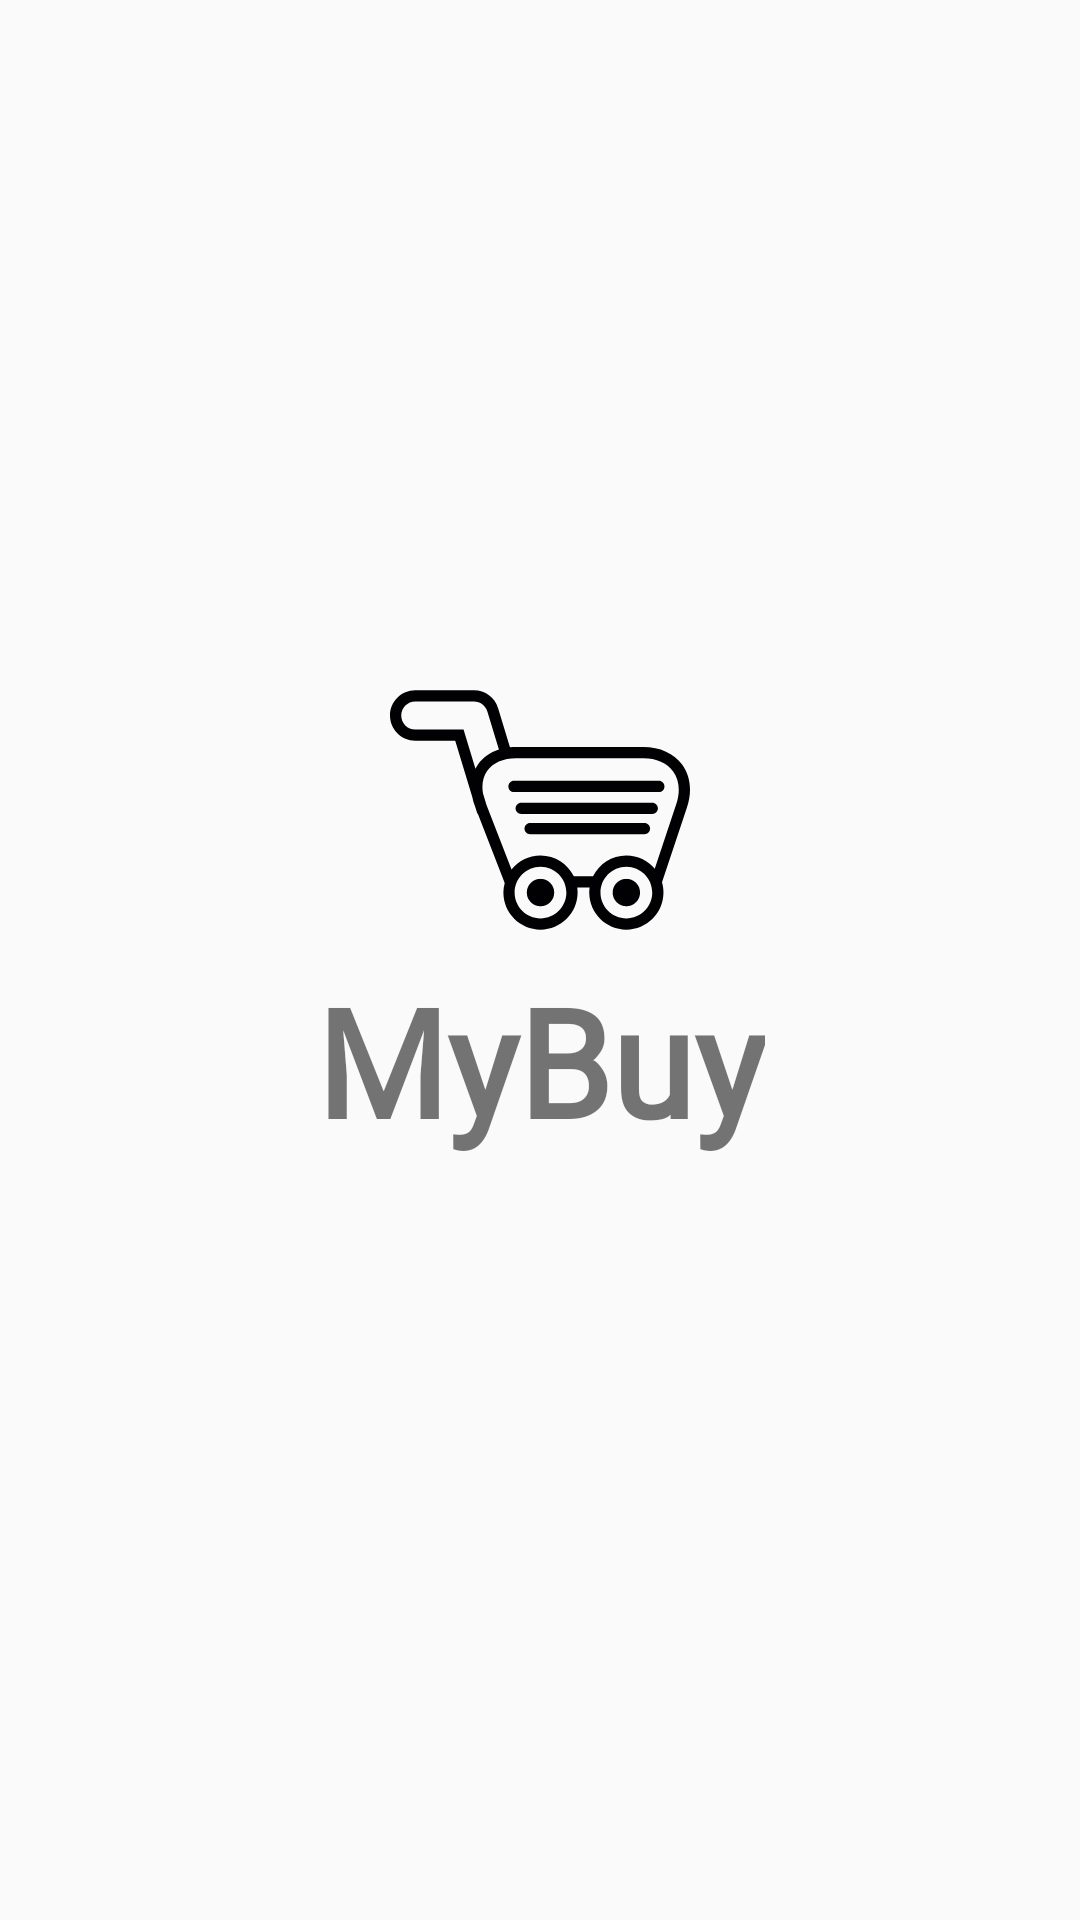

Named icons in this screenshot (1080 × 1920) and their centers, [x,y]:
grocery push cart: [540,810]
